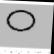no answer: (6, 8, 37, 35)
